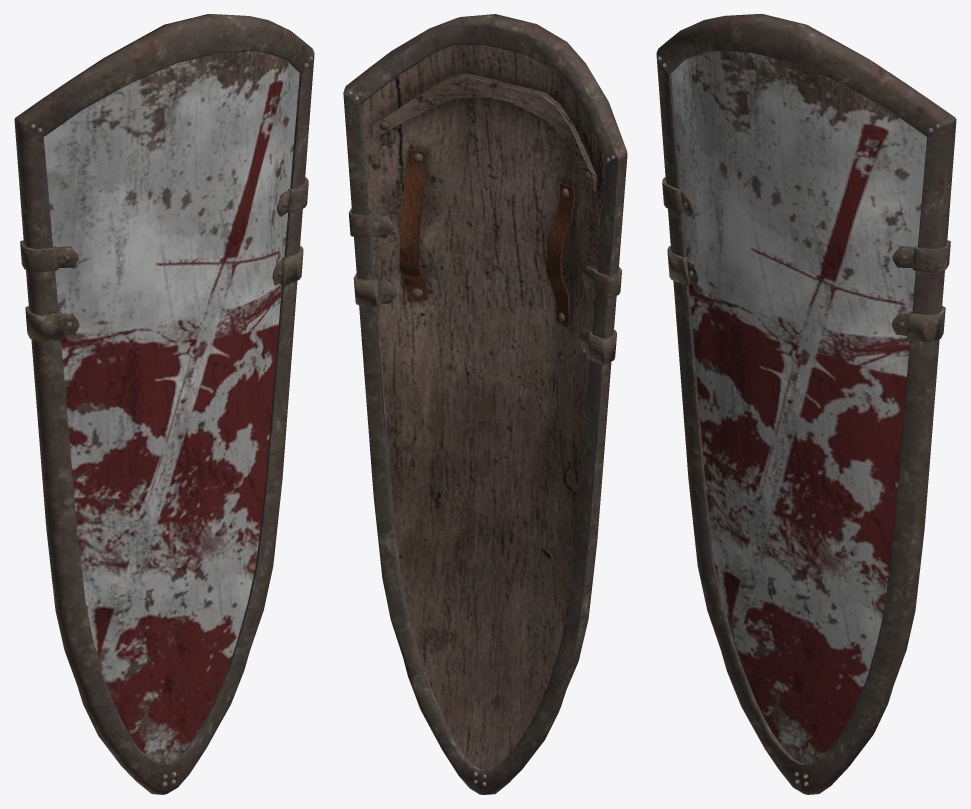
The model's file is shield.glb.
3 renders of one model, left to right at view 1: azimuth 30°, elevation 25°; view 2: azimuth 150°, elevation 25°; view 3: azimuth 330°, elevation 25°, orthographic. The views are drawn at different scales.
Parts seen in each view (by area): view 1: kite_shield_body, kite_shield_metal_trim, kite_shield_clamps_and_bolts; view 2: kite_shield_body, kite_shield_metal_trim, kite_shield_clamps_and_bolts; view 3: kite_shield_body, kite_shield_metal_trim, kite_shield_clamps_and_bolts.
Boxes of the visible parts, x1,y1,x2,y2 form: kite_shield_body: (43, 51, 299, 763); kite_shield_metal_trim: (14, 14, 314, 794); kite_shield_clamps_and_bolts: (20, 56, 312, 786); kite_shield_body: (361, 45, 606, 770); kite_shield_metal_trim: (343, 14, 627, 794); kite_shield_clamps_and_bolts: (348, 91, 621, 786); kite_shield_body: (671, 51, 927, 763); kite_shield_metal_trim: (656, 14, 956, 794); kite_shield_clamps_and_bolts: (658, 56, 950, 786).
Size of the model in its own units: 0.5432 by 1.39 by 0.1347.
Materials: 2 (2 with a texture image).
